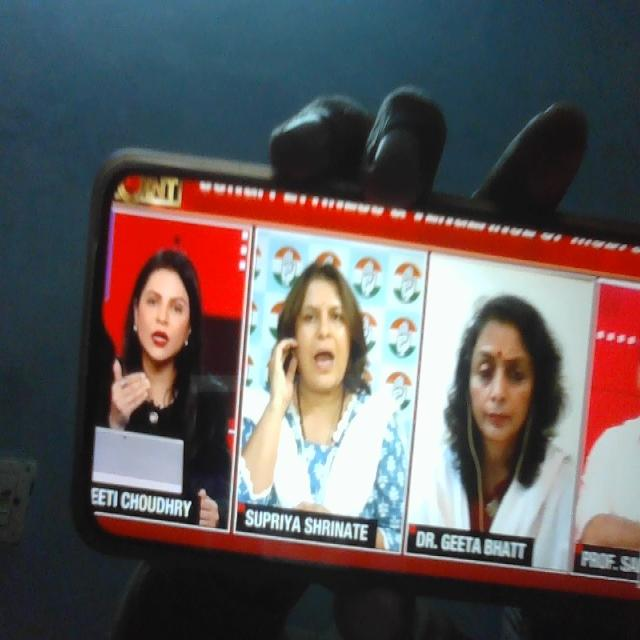fake: (445, 276, 554, 481)
